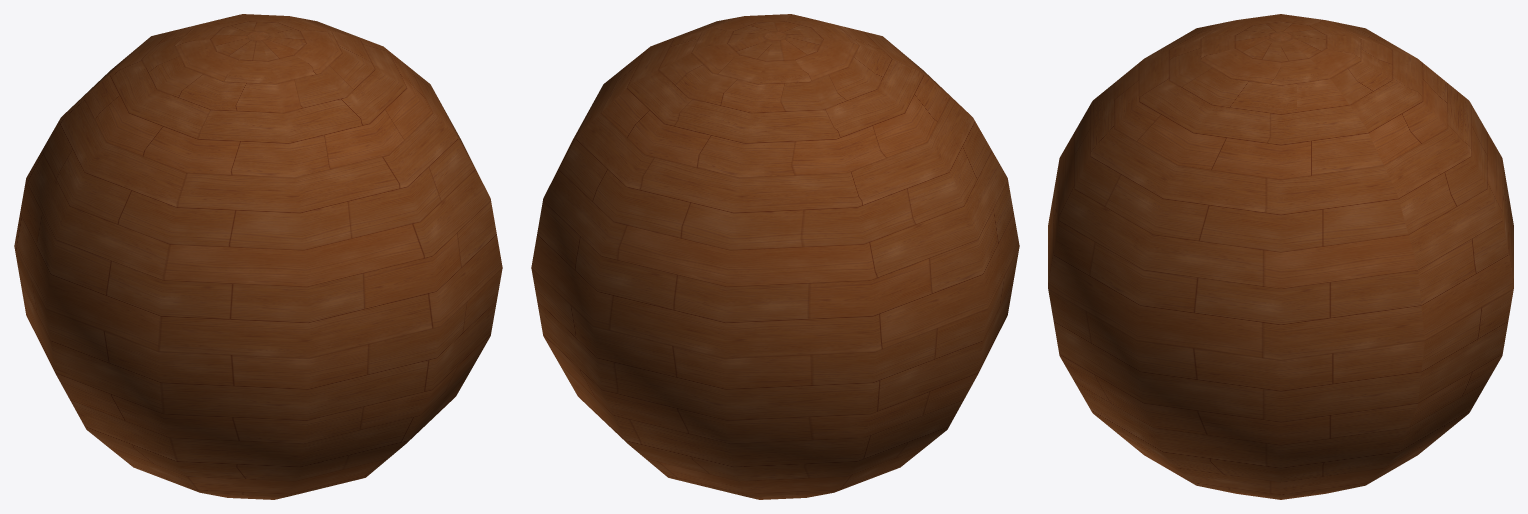
The model's file is ball.glb.
3 views of the same model, side by side, from view 1: azimuth 30°, elevation 25°; view 2: azimuth 150°, elevation 25°; view 3: azimuth 270°, elevation 25° (orthographic).
Visible parts, largest first — view 1: pSphere1; view 2: pSphere1; view 3: pSphere1.
Boxes of the visible parts, x1,y1,x2,y2 form: pSphere1: (14, 14, 502, 499); pSphere1: (531, 14, 1019, 499); pSphere1: (1048, 14, 1513, 499).
Size of the model in its own units: 0.02 by 0.02 by 0.019.
Materials: 1 (1 with a texture image).
